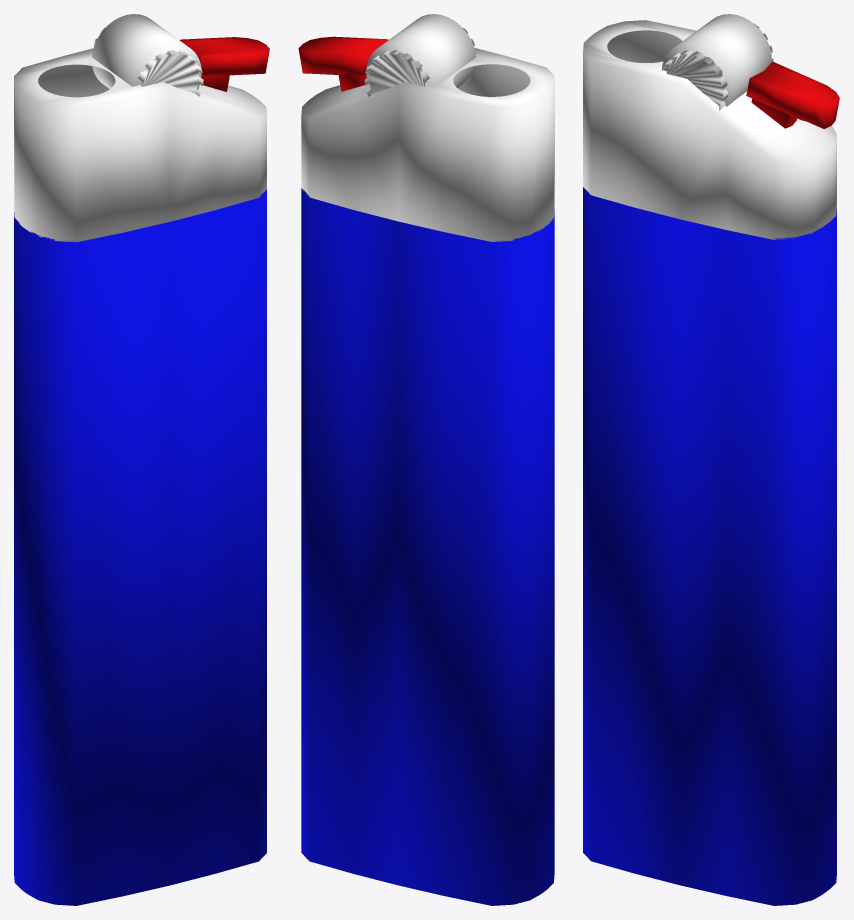
The model's file is LighterFBX.fbx.
3 views of the same model, side by side, from view 1: azimuth 30°, elevation 25°; view 2: azimuth 150°, elevation 25°; view 3: azimuth 330°, elevation 25° (orthographic).
Parts seen in each view (by area): view 1: Lighter; view 2: Lighter; view 3: Lighter.
Part boxes in pixels (bbox=[...]): Lighter: bbox=[14, 14, 269, 905]; Lighter: bbox=[298, 14, 554, 905]; Lighter: bbox=[583, 14, 839, 905].
Size of the model in its own units: 34.67 by 114 by 14.72.
